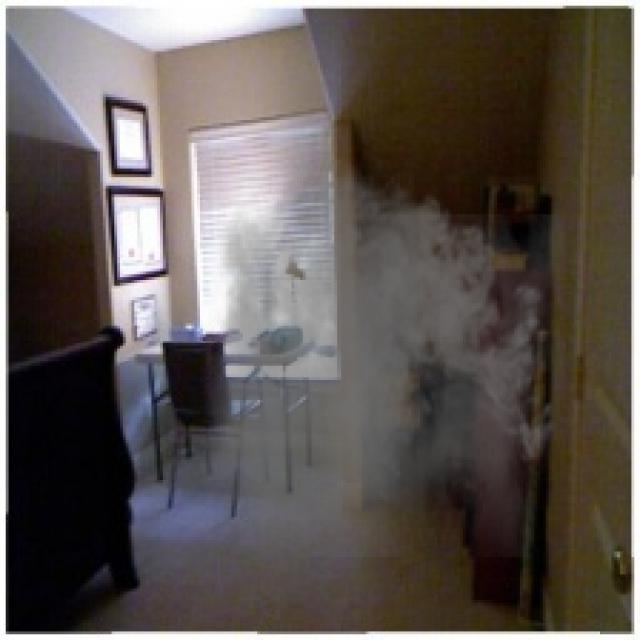Smoke: (200, 145, 566, 558)
